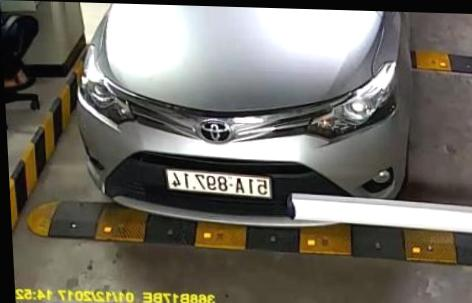License_Plate: (161, 167, 274, 201)
